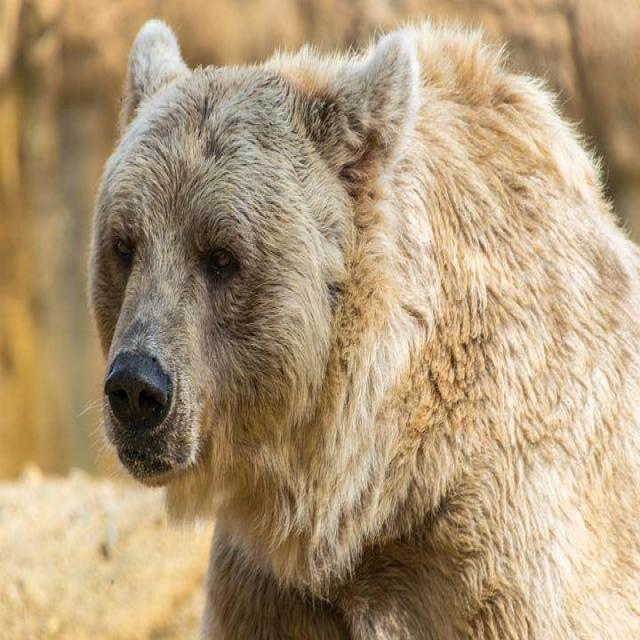Bear: (87, 19, 640, 640)
